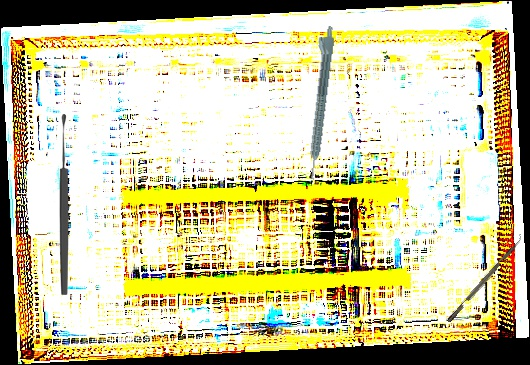Chopper: (442, 232, 526, 323)
Handpiece: (300, 25, 336, 180)
Surgical Spoon: (59, 114, 70, 295)
